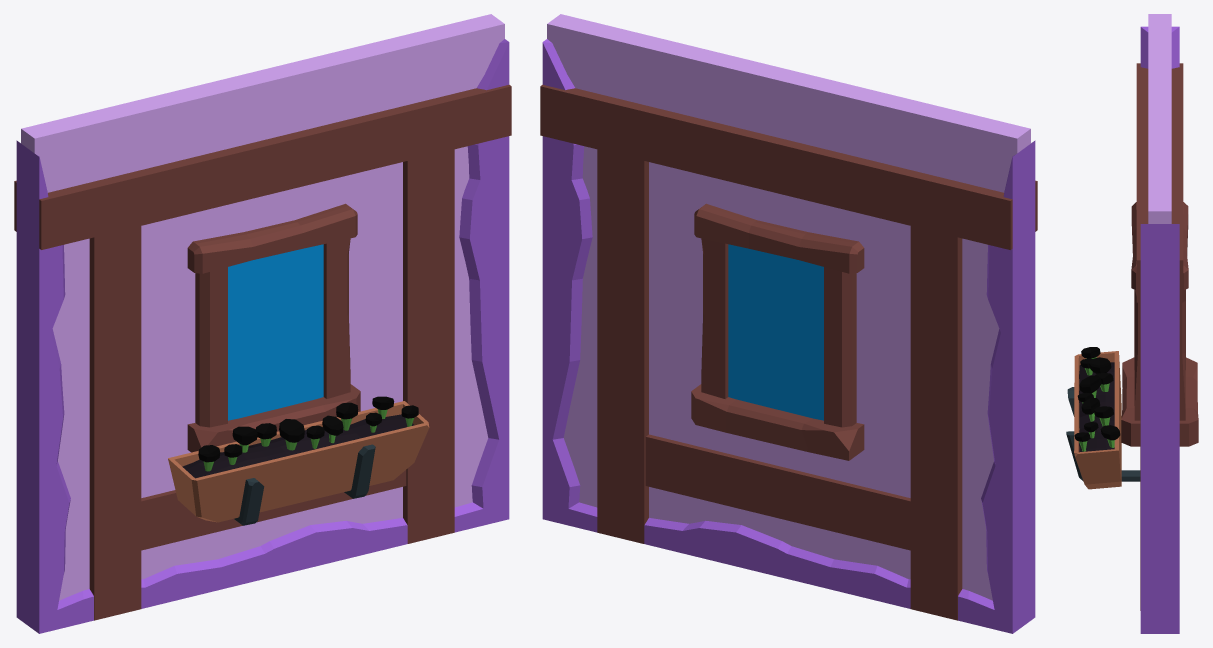
The model's file is Modular Wall 03 MK2 W3.fbx.
3 renders of one model, left to right at view 1: azimuth 30°, elevation 25°; view 2: azimuth 150°, elevation 25°; view 3: azimuth 270°, elevation 25°, orthographic. The views are drawn at different scales.
Parts seen in each view (by area): view 1: Modular Wall 03 MK2 W3; view 2: Modular Wall 03 MK2 W3; view 3: Modular Wall 03 MK2 W3.
Boxes of the visible parts, x1,y1,x2,y2 form: Modular Wall 03 MK2 W3: (14,14,511,633); Modular Wall 03 MK2 W3: (540,14,1037,633); Modular Wall 03 MK2 W3: (1066,14,1198,633).
Bounding box in the file's own units: 400 × 400 × 113.
